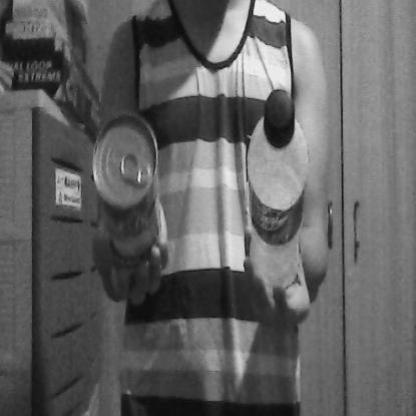Plastic Bottle: (227, 79, 324, 315)
